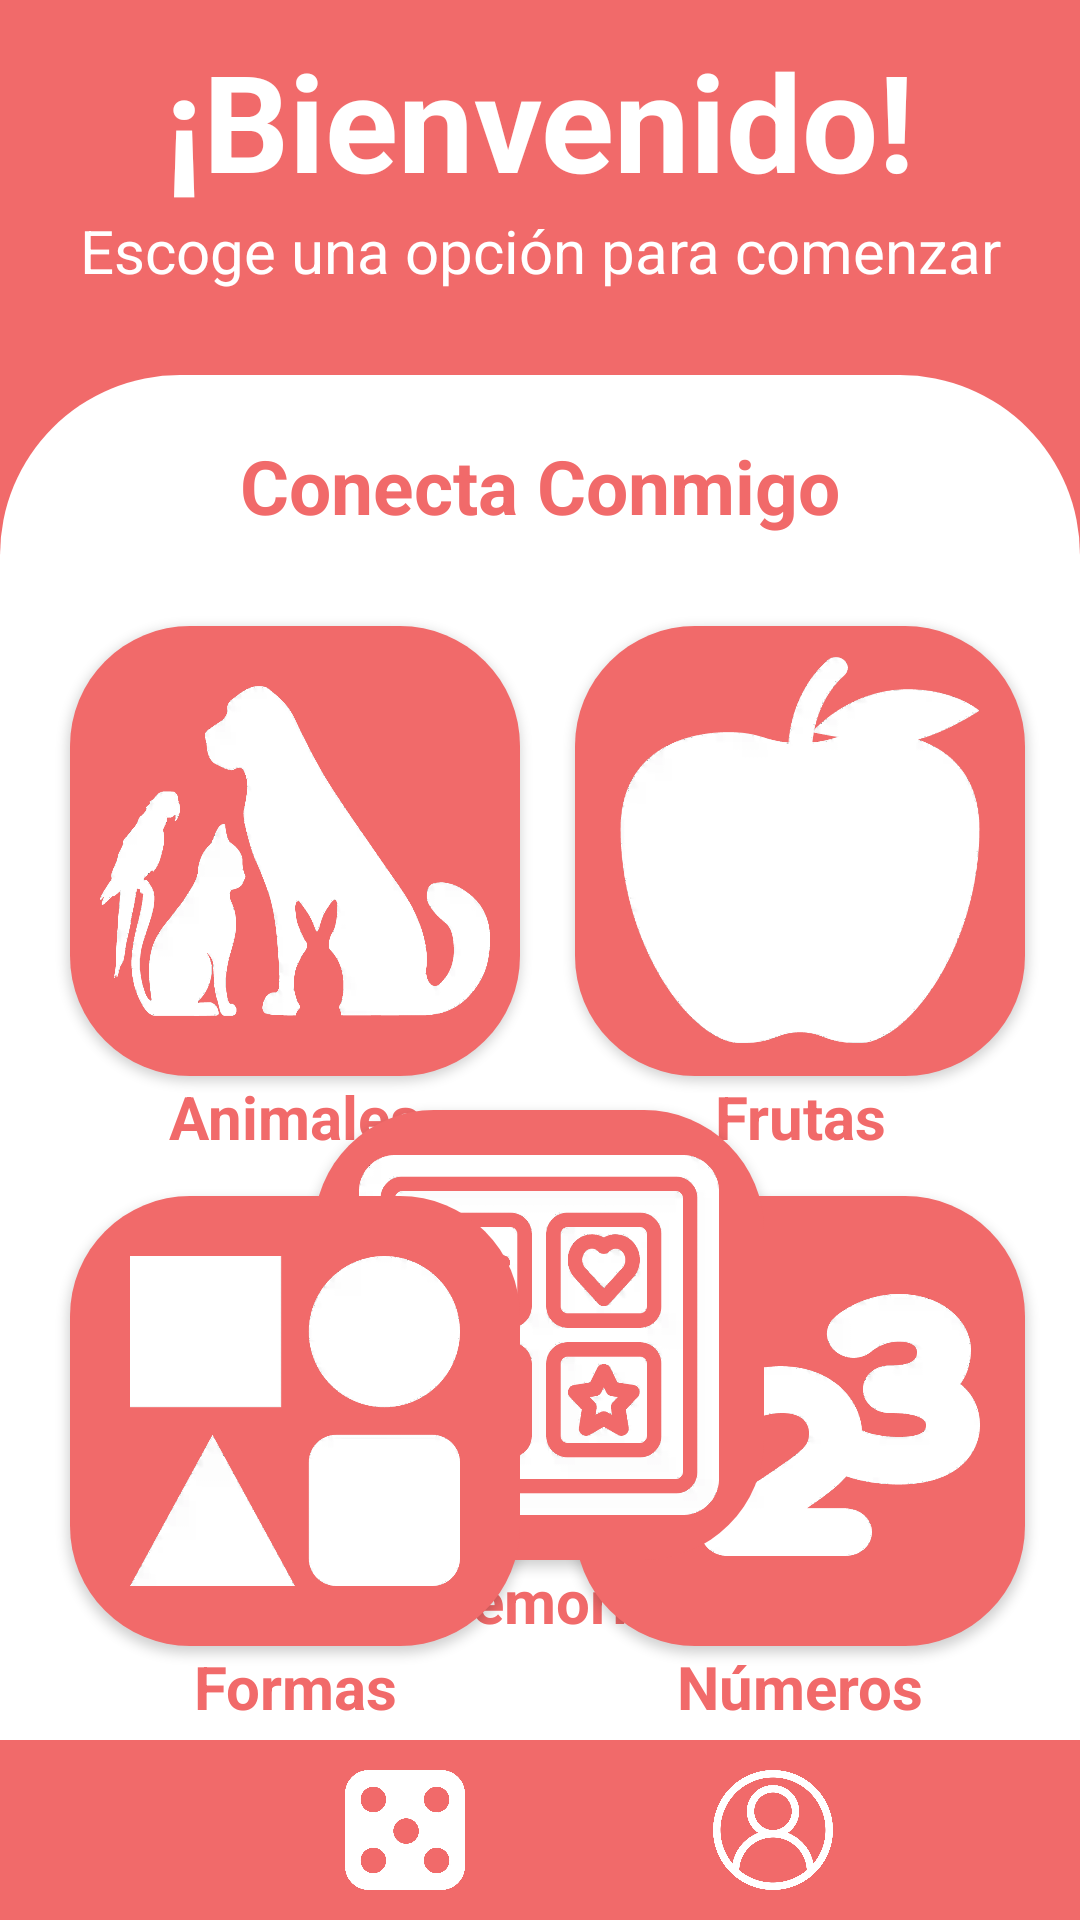

Point at icon controls on the screen. Image size 1080px x 1920px, points as (x,y).
juegoselec: (405,1830)
userunselec: (773,1830)
